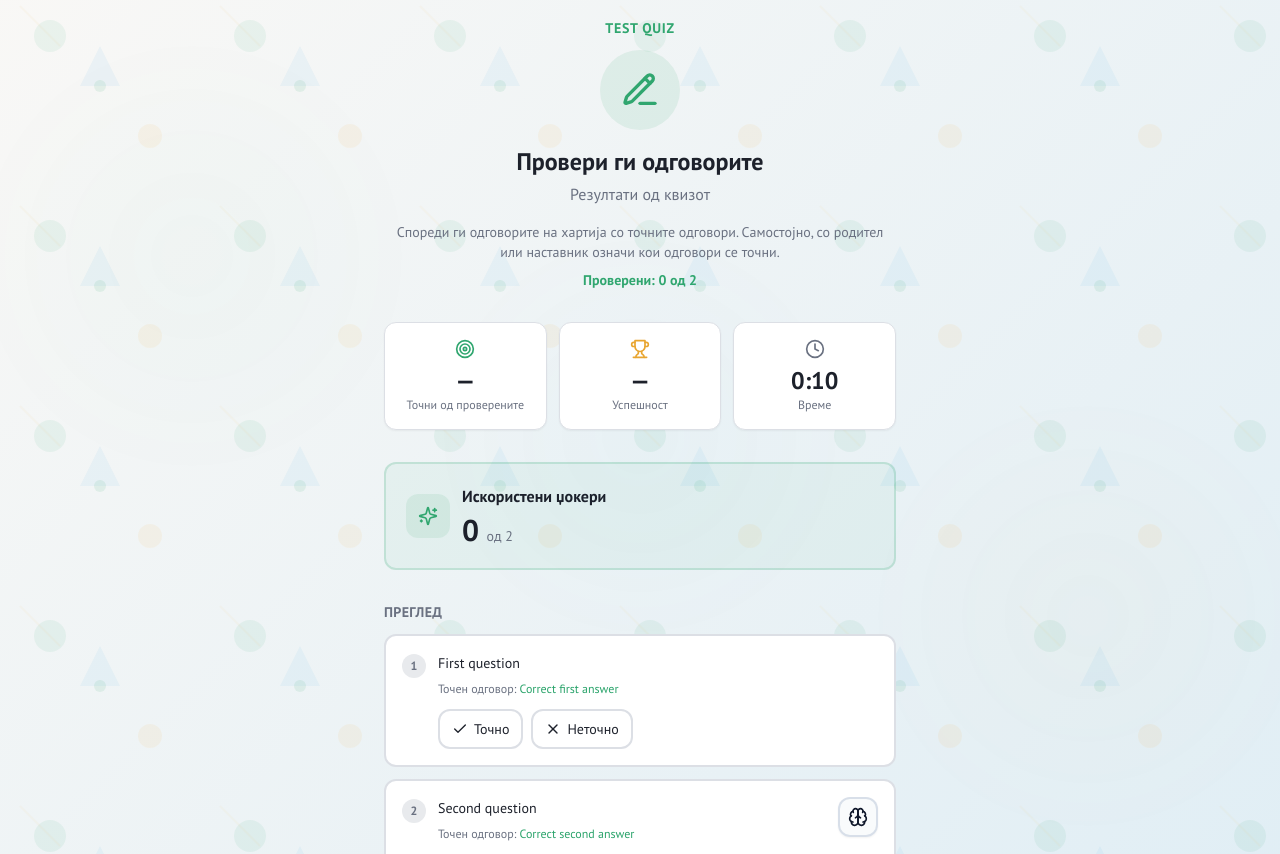
Test: paper summary › calculates the score after self-checking and allows corrections
Click the button "Точно" below "Correct first answer". click: {"x": 481, "y": 729}
box: [438,709,523,749]
(page scrolled)
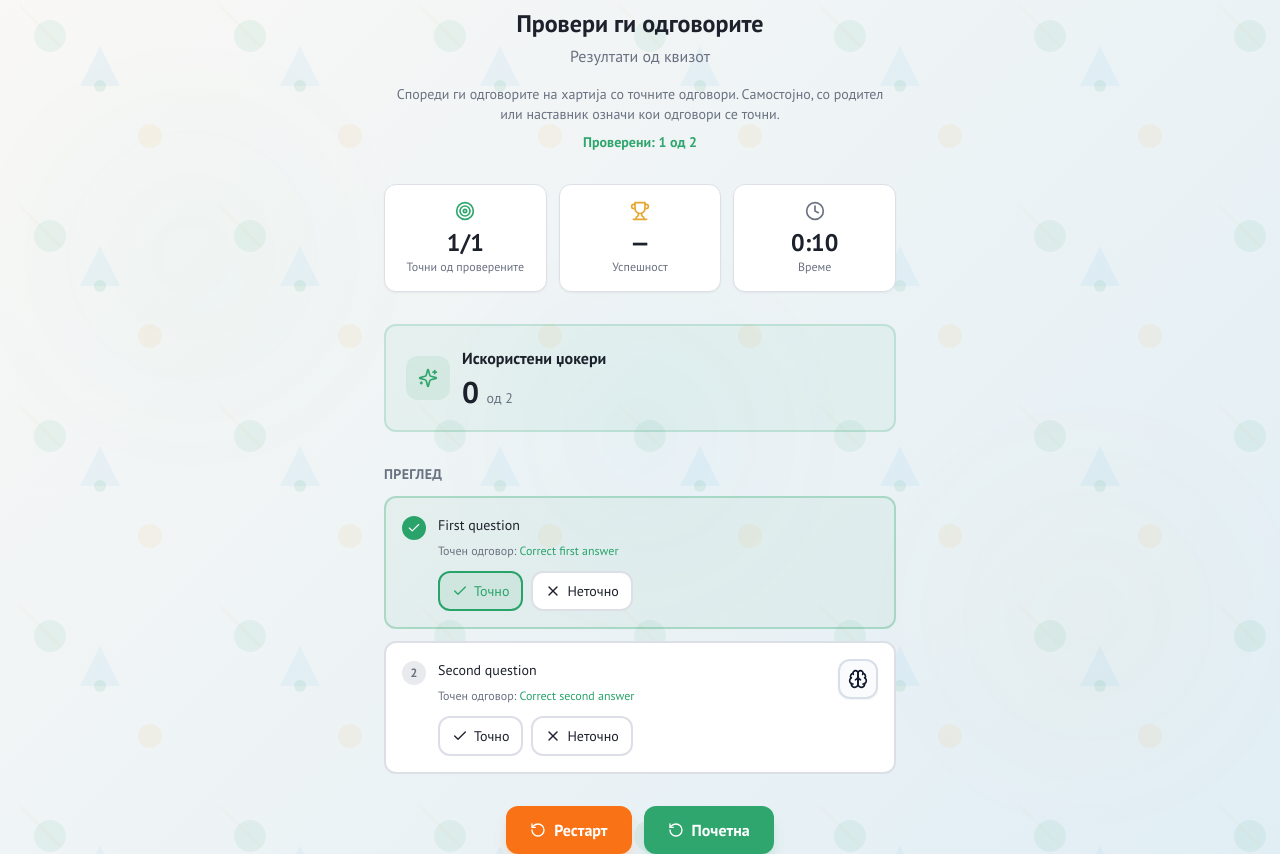
Check: the text "50%" is not shown
Check: the text "Проверени: 1 од 2" is shown, box [583,133,697,151]
Click the button "Неточно" below "Correct second answer". click: {"x": 582, "y": 736}
box: [531,716,633,756]
(page scrolled)
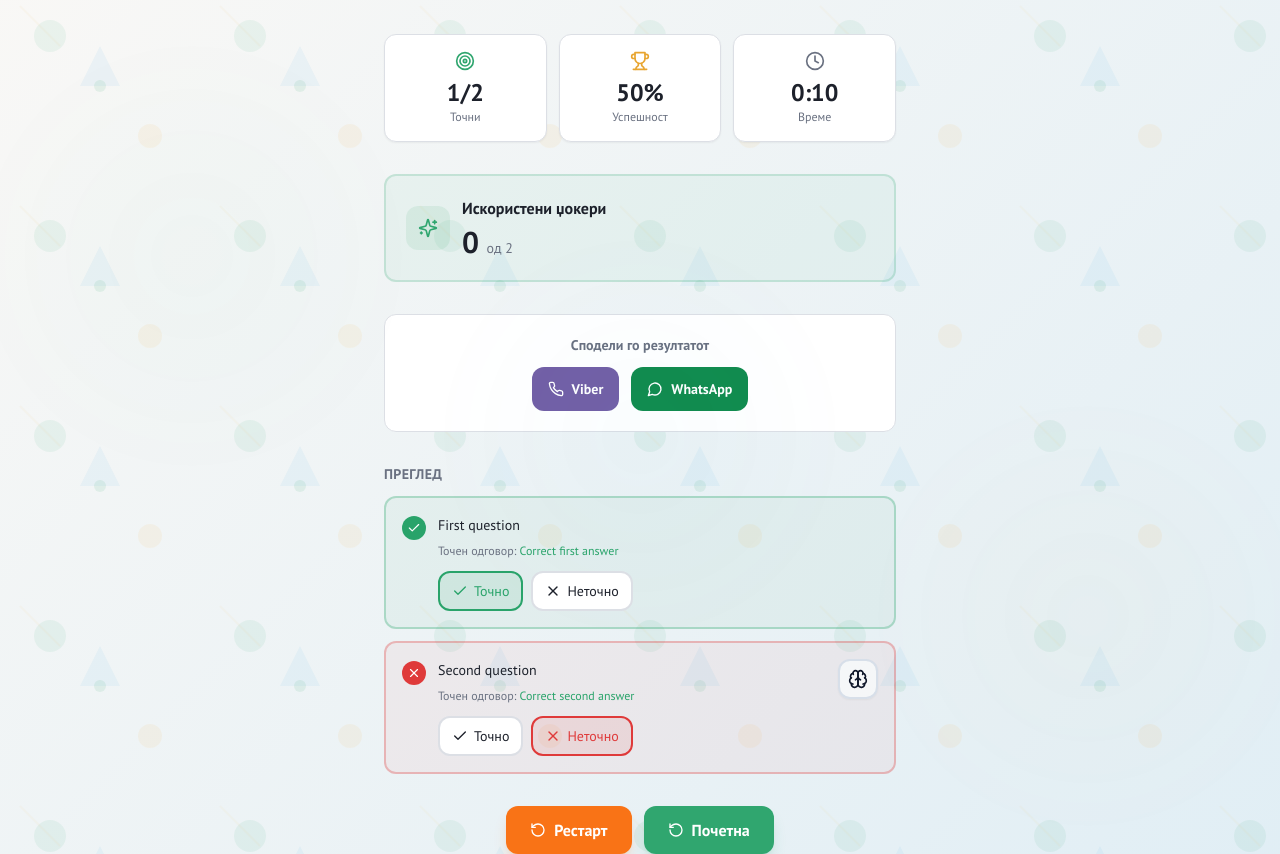
Check: the text "50%" is shown, box [616,77,664,109]
Click the button "Точно" below "Correct second answer". click: {"x": 481, "y": 736}
box: [438,716,523,756]
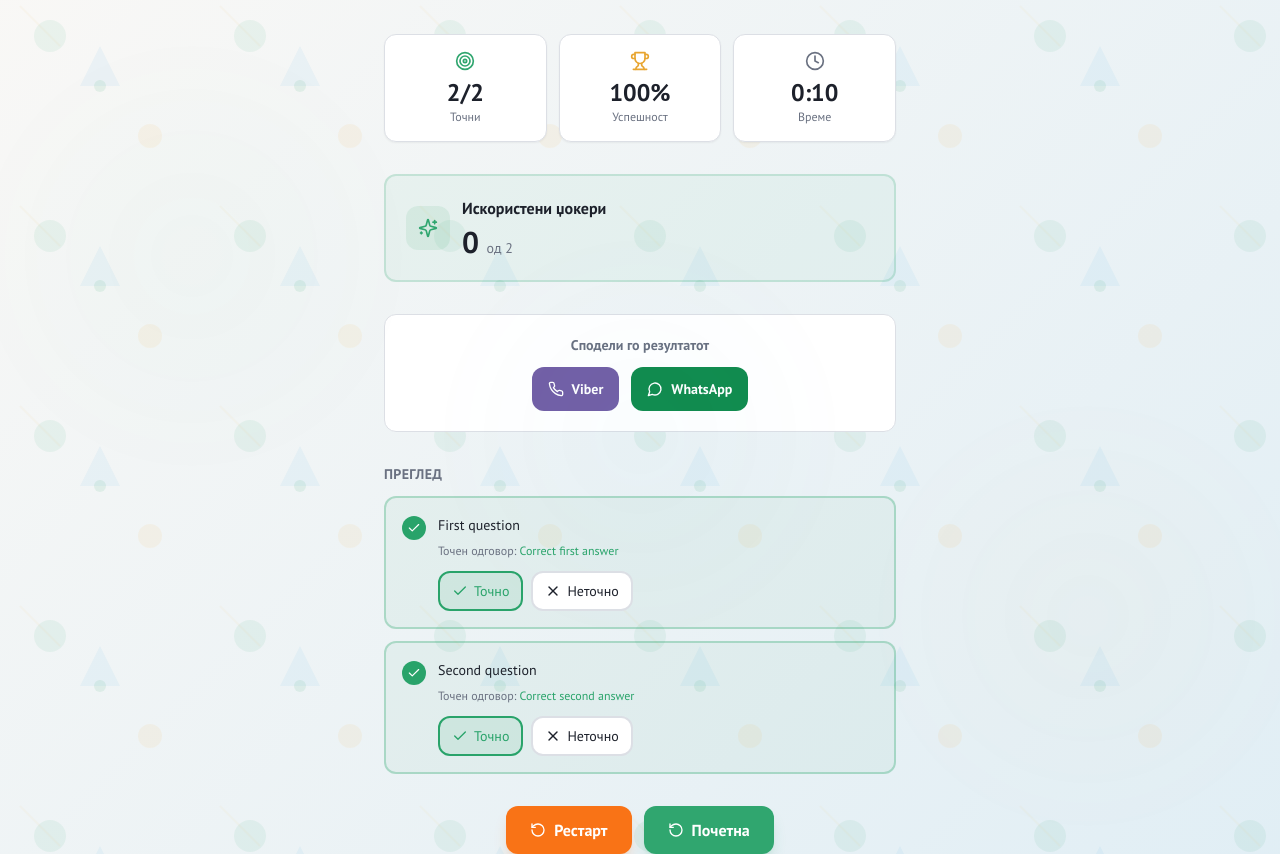
Check: the text "100%" is shown, box [610,77,670,109]
Check: the text "2/2" is shown, box [447,77,484,109]
